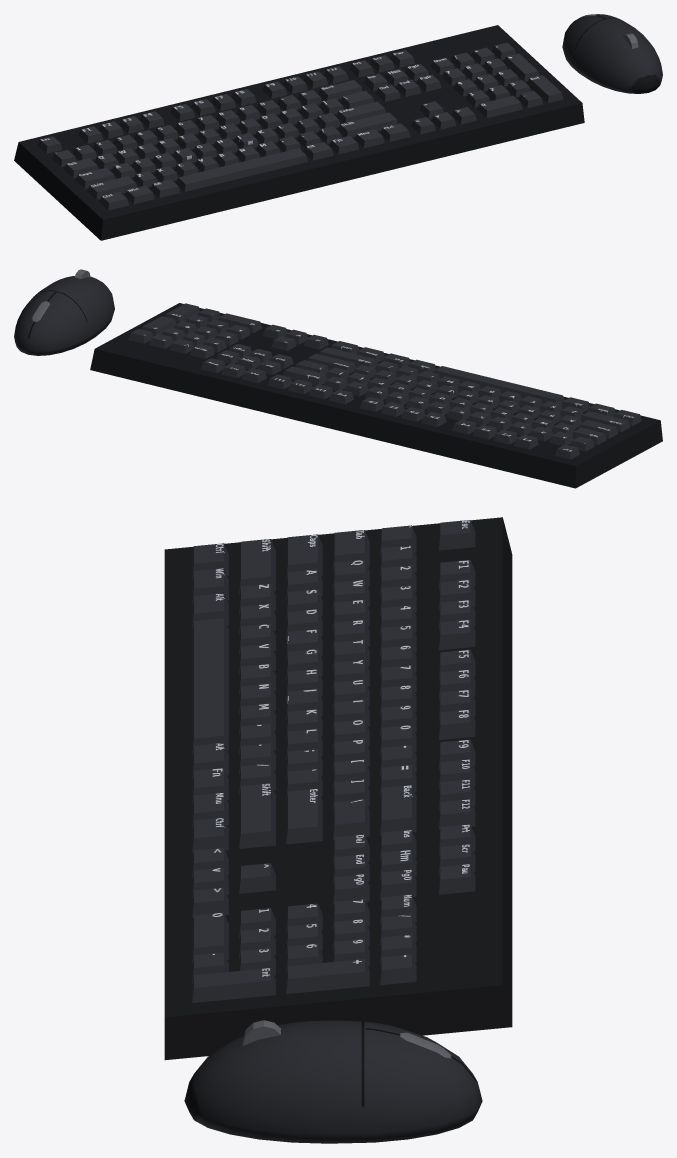
The model's file is desk_input.glb.
3 views of the same model, one above another, from view 1: azimuth 30°, elevation 25°; view 2: azimuth 150°, elevation 25°; view 3: azimuth 270°, elevation 25° (orthographic). The views are drawn at different scales.
Parts seen in each view (by area): view 1: Keyboard, Mouse; view 2: Keyboard, Mouse; view 3: Keyboard, Mouse.
Part boxes in pixels (x1,y1,x2,y2): Keyboard: (14, 25, 584, 240); Mouse: (562, 14, 662, 93); Keyboard: (90, 303, 662, 488); Mouse: (14, 269, 114, 355); Keyboard: (164, 517, 512, 1060); Mouse: (184, 1020, 482, 1143).
Bounding box in the file's own units: 0.5458 × 0.0468 × 0.14.
Materials: 1 (1 with a texture image).
